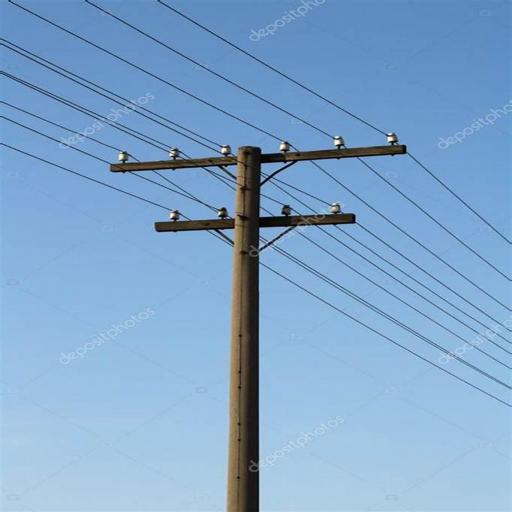mono_8: (112, 136, 406, 512)
